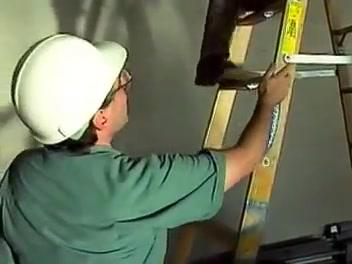helmet: (10, 28, 120, 144)
no -hi-vis jacket: (9, 144, 196, 264)
